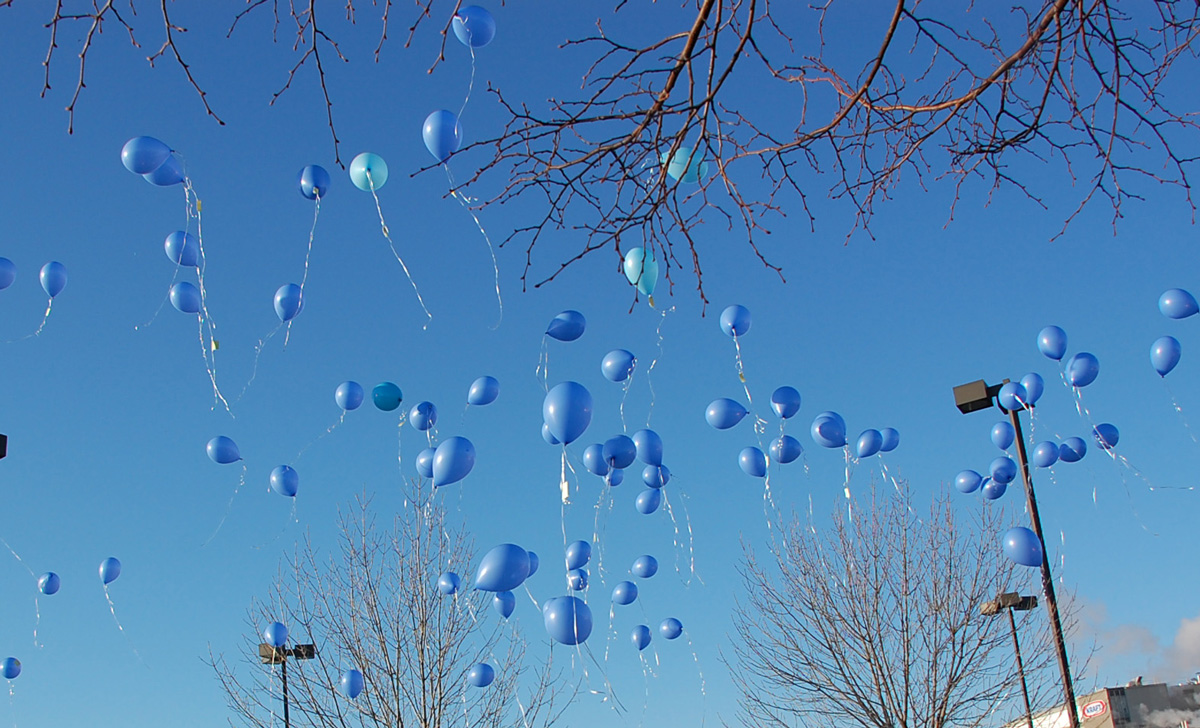Balloon: (542, 381, 594, 443), (473, 544, 529, 591), (545, 596, 594, 645), (432, 436, 475, 489), (120, 135, 173, 175), (421, 110, 464, 159), (655, 146, 708, 185), (450, 7, 498, 48), (623, 247, 659, 297), (348, 151, 389, 192), (1002, 527, 1042, 567), (704, 397, 747, 430), (296, 163, 333, 201), (164, 229, 199, 268), (1159, 287, 1200, 320), (1150, 336, 1181, 377), (545, 310, 586, 341), (1065, 352, 1100, 388), (600, 349, 637, 383), (273, 282, 305, 321), (602, 434, 637, 469), (169, 281, 204, 315), (810, 416, 846, 448), (631, 430, 663, 466), (1037, 325, 1068, 361), (719, 305, 752, 338), (206, 434, 240, 465), (39, 260, 67, 297), (467, 375, 499, 407), (270, 464, 300, 498), (769, 435, 804, 464), (770, 387, 800, 419), (334, 380, 364, 411), (371, 382, 402, 411), (854, 429, 883, 459), (738, 447, 766, 478), (409, 402, 438, 431), (998, 382, 1028, 410), (1020, 373, 1044, 406), (564, 539, 590, 568), (1058, 437, 1087, 462), (990, 456, 1016, 483), (635, 487, 661, 514), (991, 422, 1016, 450), (99, 555, 122, 585), (1033, 441, 1058, 468), (611, 581, 638, 606), (1092, 424, 1120, 448), (630, 555, 658, 578), (466, 664, 495, 686), (955, 470, 982, 493), (494, 591, 516, 619), (341, 669, 363, 696), (263, 621, 286, 646), (37, 571, 61, 594), (565, 569, 589, 591), (659, 618, 683, 640), (630, 625, 651, 650), (438, 571, 460, 593), (1, 655, 21, 679)
